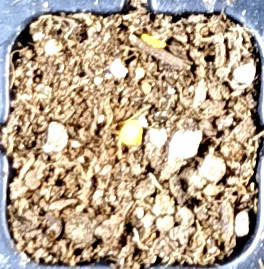pepper seed: (46, 46, 191, 193), (55, 7, 223, 58)
